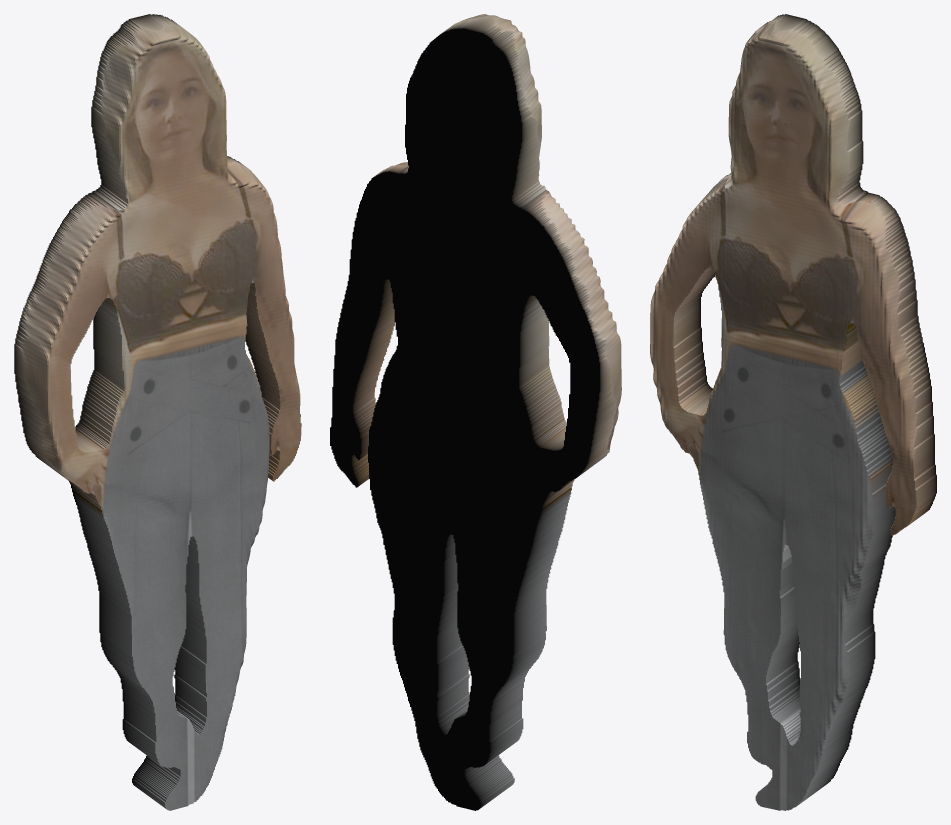
File: avatar_20260327_230405.glb
3 views of the same model, side by side, from view 1: azimuth 30°, elevation 25°; view 2: azimuth 150°, elevation 25°; view 3: azimuth 330°, elevation 25° (orthographic).
Parts seen in each view (by area): view 1: world; view 2: world; view 3: world.
Part boxes in pixels (bbox=[...]): world: bbox=[14, 14, 301, 810]; world: bbox=[330, 14, 621, 810]; world: bbox=[650, 14, 936, 810].
Size of the model in its own units: 0.673 by 1.86 by 0.1453.
